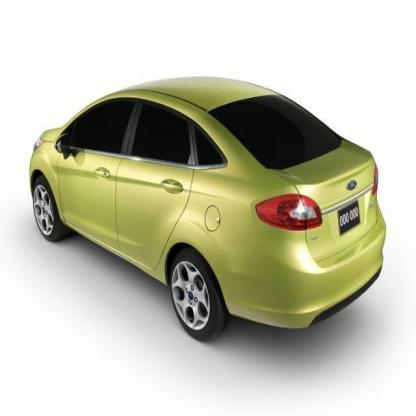Vehicle: (29, 76, 388, 344)
